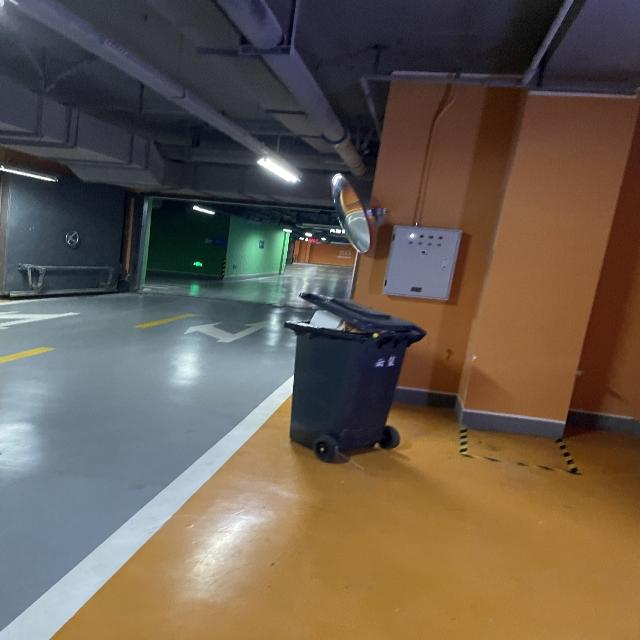overflow: (281, 290, 425, 450)
